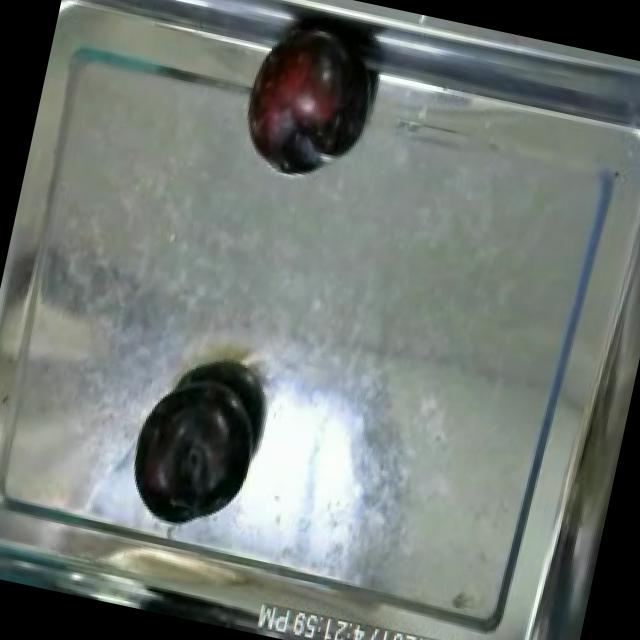Fruit: (228, 18, 387, 194), (118, 362, 273, 537)
